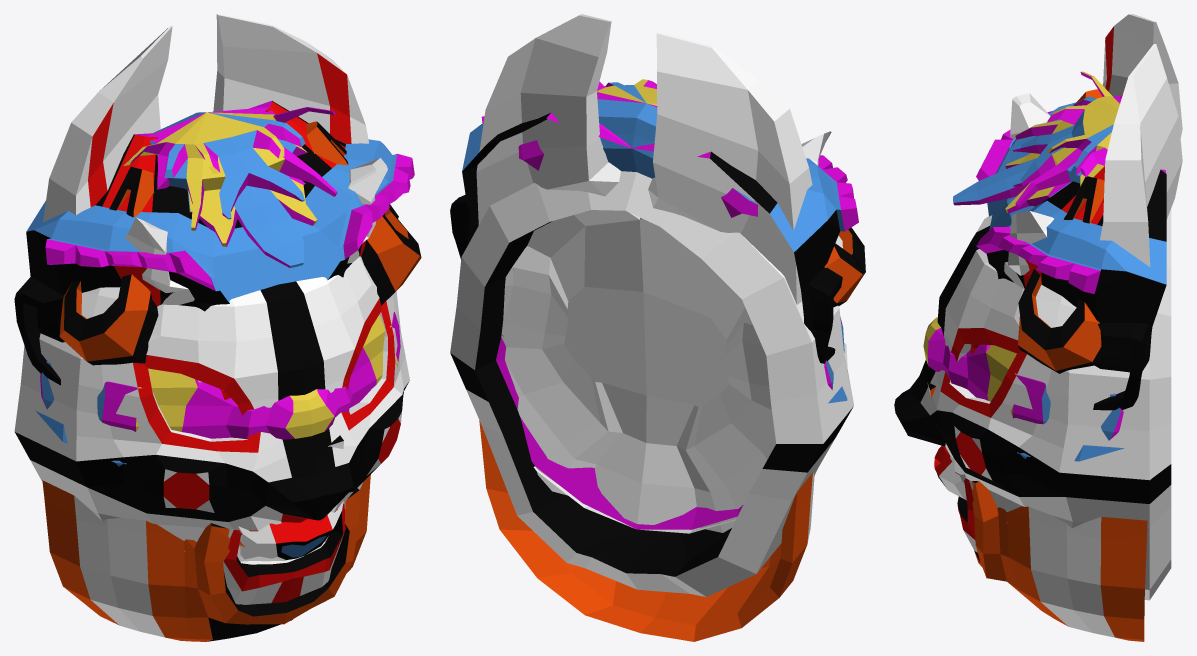
File: masks.fbx
The picture shows the model from 3 angles, left to right: view 1: azimuth 30°, elevation 25°; view 2: azimuth 150°, elevation 25°; view 3: azimuth 270°, elevation 25°; orthographic projection. The views are drawn at different scales.
Visible parts, largest first — view 1: mask1, mask3, mask4, mask2, mask_PC; view 2: mask_PC, mask1, mask3, mask4, mask2, mask_base; view 3: mask1, mask3, mask4, mask_PC, mask2.
Boxes of the visible parts, box(x1,y1,x2,y2) form: mask1: box(14, 158, 409, 604); mask3: box(42, 121, 421, 641); mask4: box(14, 101, 414, 385); mask2: box(40, 107, 400, 439); mask_PC: box(35, 14, 403, 559); mask_PC: box(476, 14, 847, 532); mask1: box(450, 131, 853, 596); mask3: box(479, 227, 865, 641); mask4: box(450, 112, 858, 363); mask2: box(496, 79, 844, 529); mask_base: box(533, 466, 735, 533); mask1: box(894, 93, 1171, 600); mask3: box(927, 89, 1147, 641); mask4: box(976, 95, 1166, 410); mask_PC: box(934, 14, 1182, 500); mask2: box(923, 71, 1123, 440).
Bounding box in the file's own units: 44.54 × 68.35 × 30.36.
